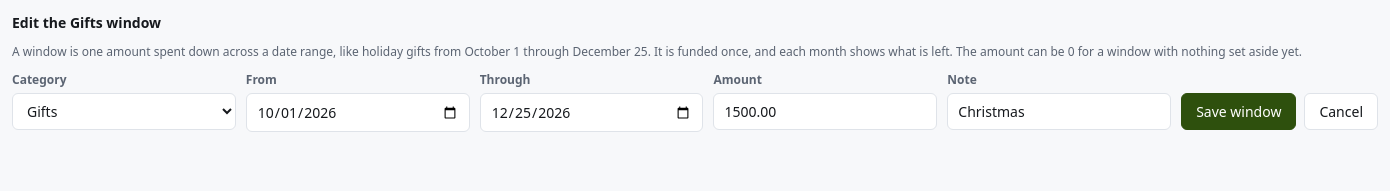
Scenario: the window form › shows a refusal that is not about one field beside the buttons
What coordinates should you click on to do the following:
click the button "Save window"
I would click on:
 (1239, 112)
Its box is [1181,93,1296,130].
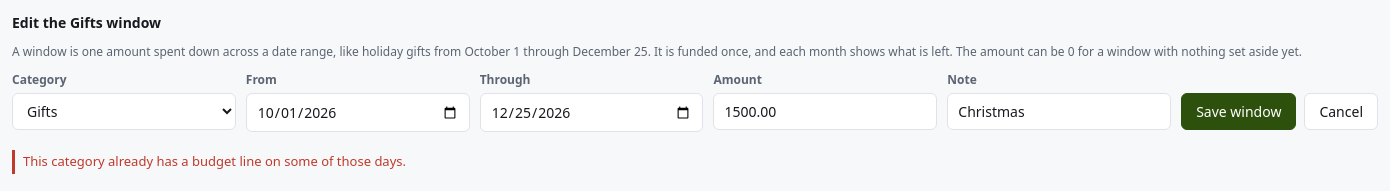
Check: the message shows "already has a budget line", box [23,152,406,170]
